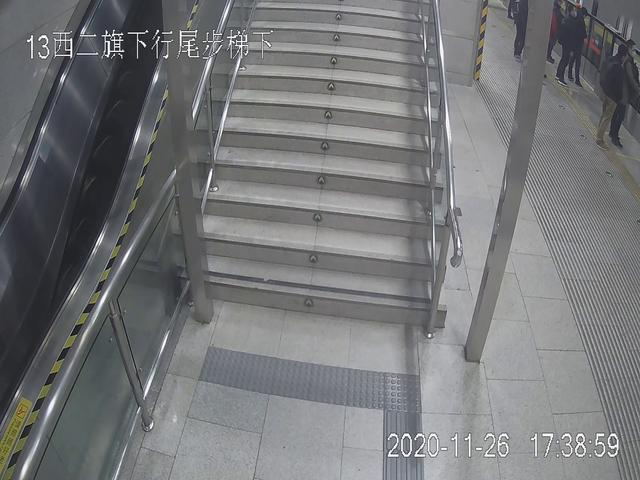person: (599, 35, 628, 150), (551, 6, 578, 86), (570, 5, 591, 85)
